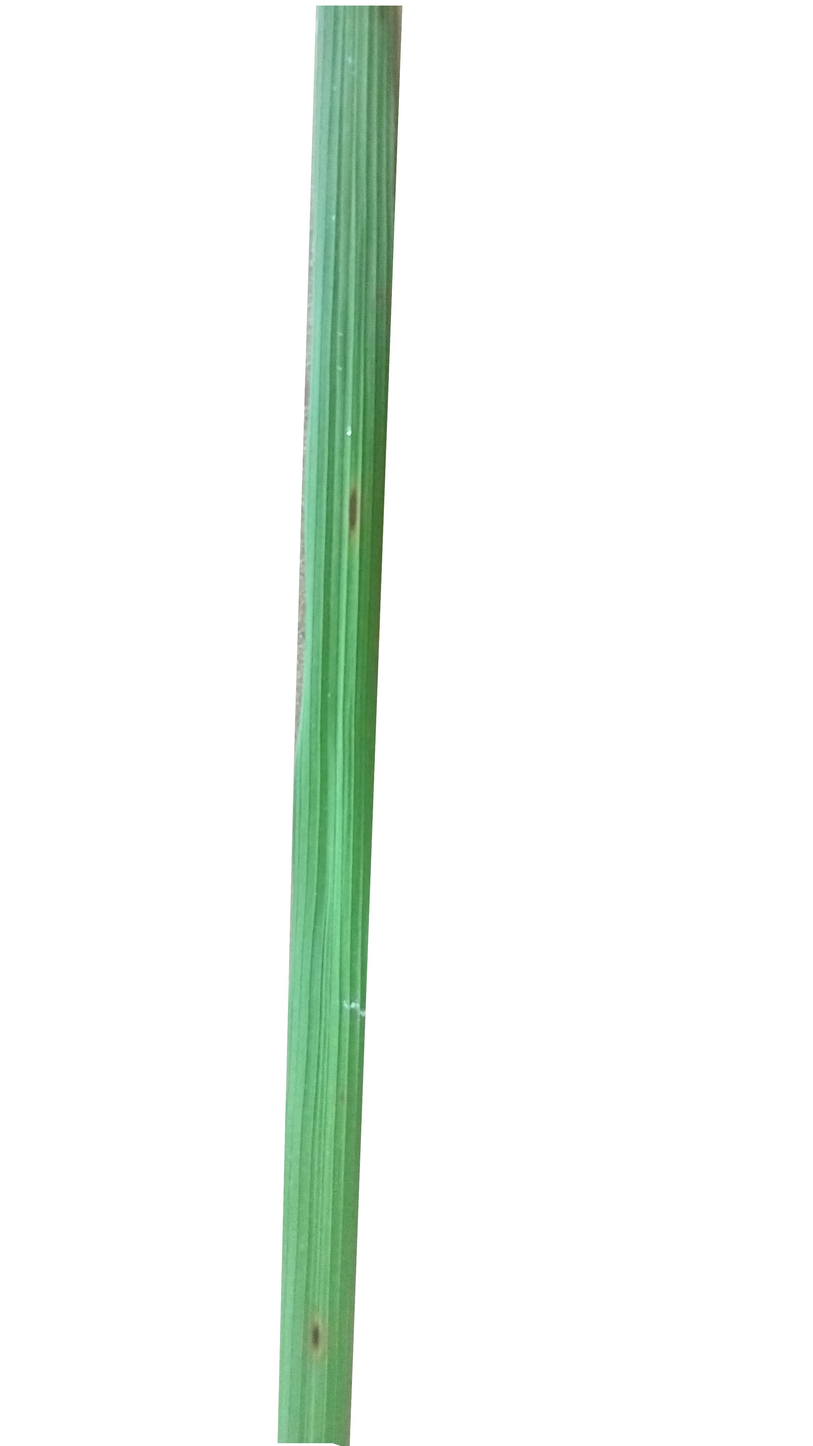Brown spot: (338, 444, 374, 573), (307, 1293, 329, 1386)
